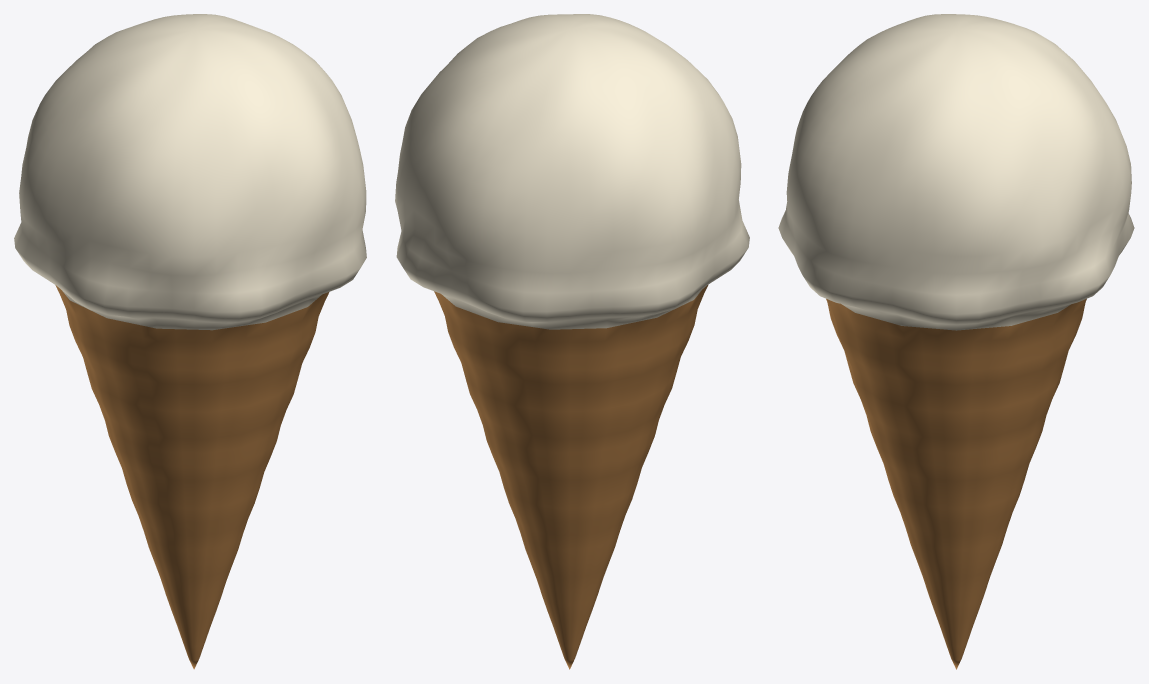
Rendered from NEW_RECOVERY_002_LOD0.fbx.
The picture shows the model from 3 angles, left to right: view 1: azimuth 30°, elevation 25°; view 2: azimuth 150°, elevation 25°; view 3: azimuth 270°, elevation 25°; orthographic projection.
Visible parts, largest first — view 1: NEW_RECOVERY_002_LOD0; view 2: NEW_RECOVERY_002_LOD0; view 3: NEW_RECOVERY_002_LOD0.
Boxes of the visible parts, left/top/right/bottom form: NEW_RECOVERY_002_LOD0: left=14, top=14, right=366, bottom=669; NEW_RECOVERY_002_LOD0: left=395, top=14, right=749, bottom=669; NEW_RECOVERY_002_LOD0: left=778, top=14, right=1134, bottom=669.
Bounding box in the file's own units: 15.99 × 16.14 × 32.
